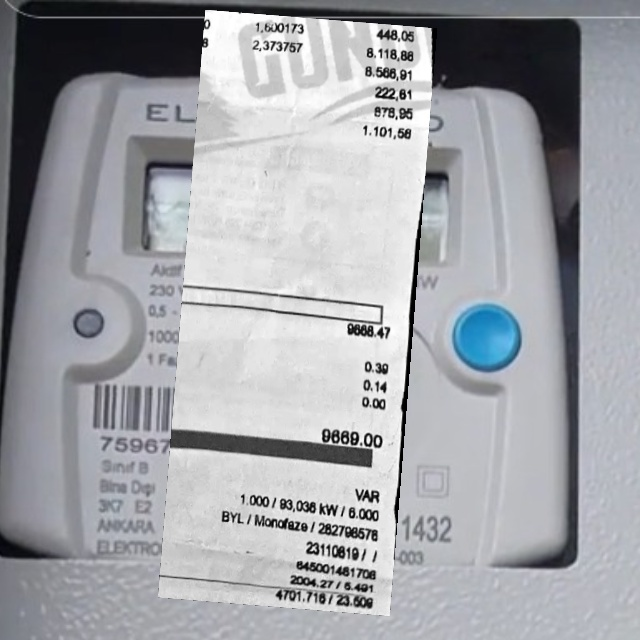electricity-bill: (157, 9, 436, 615)
